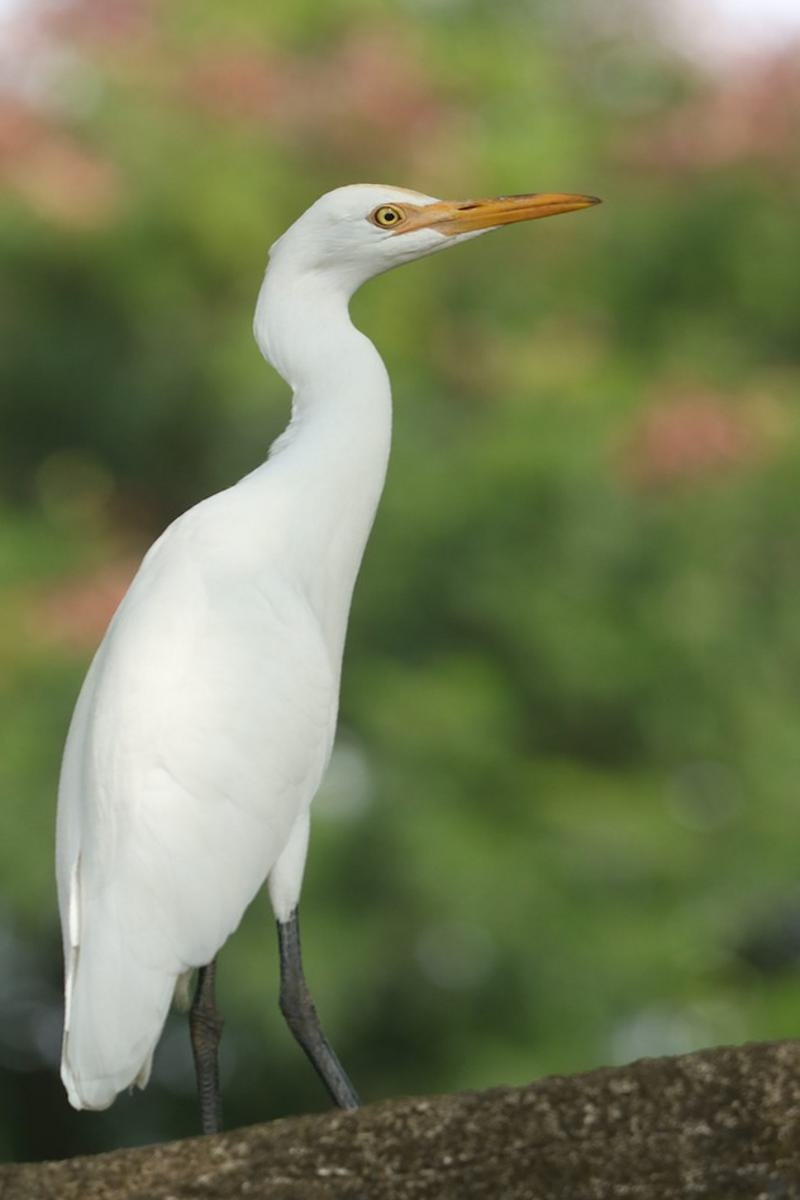egret: (1, 116, 606, 1124)
